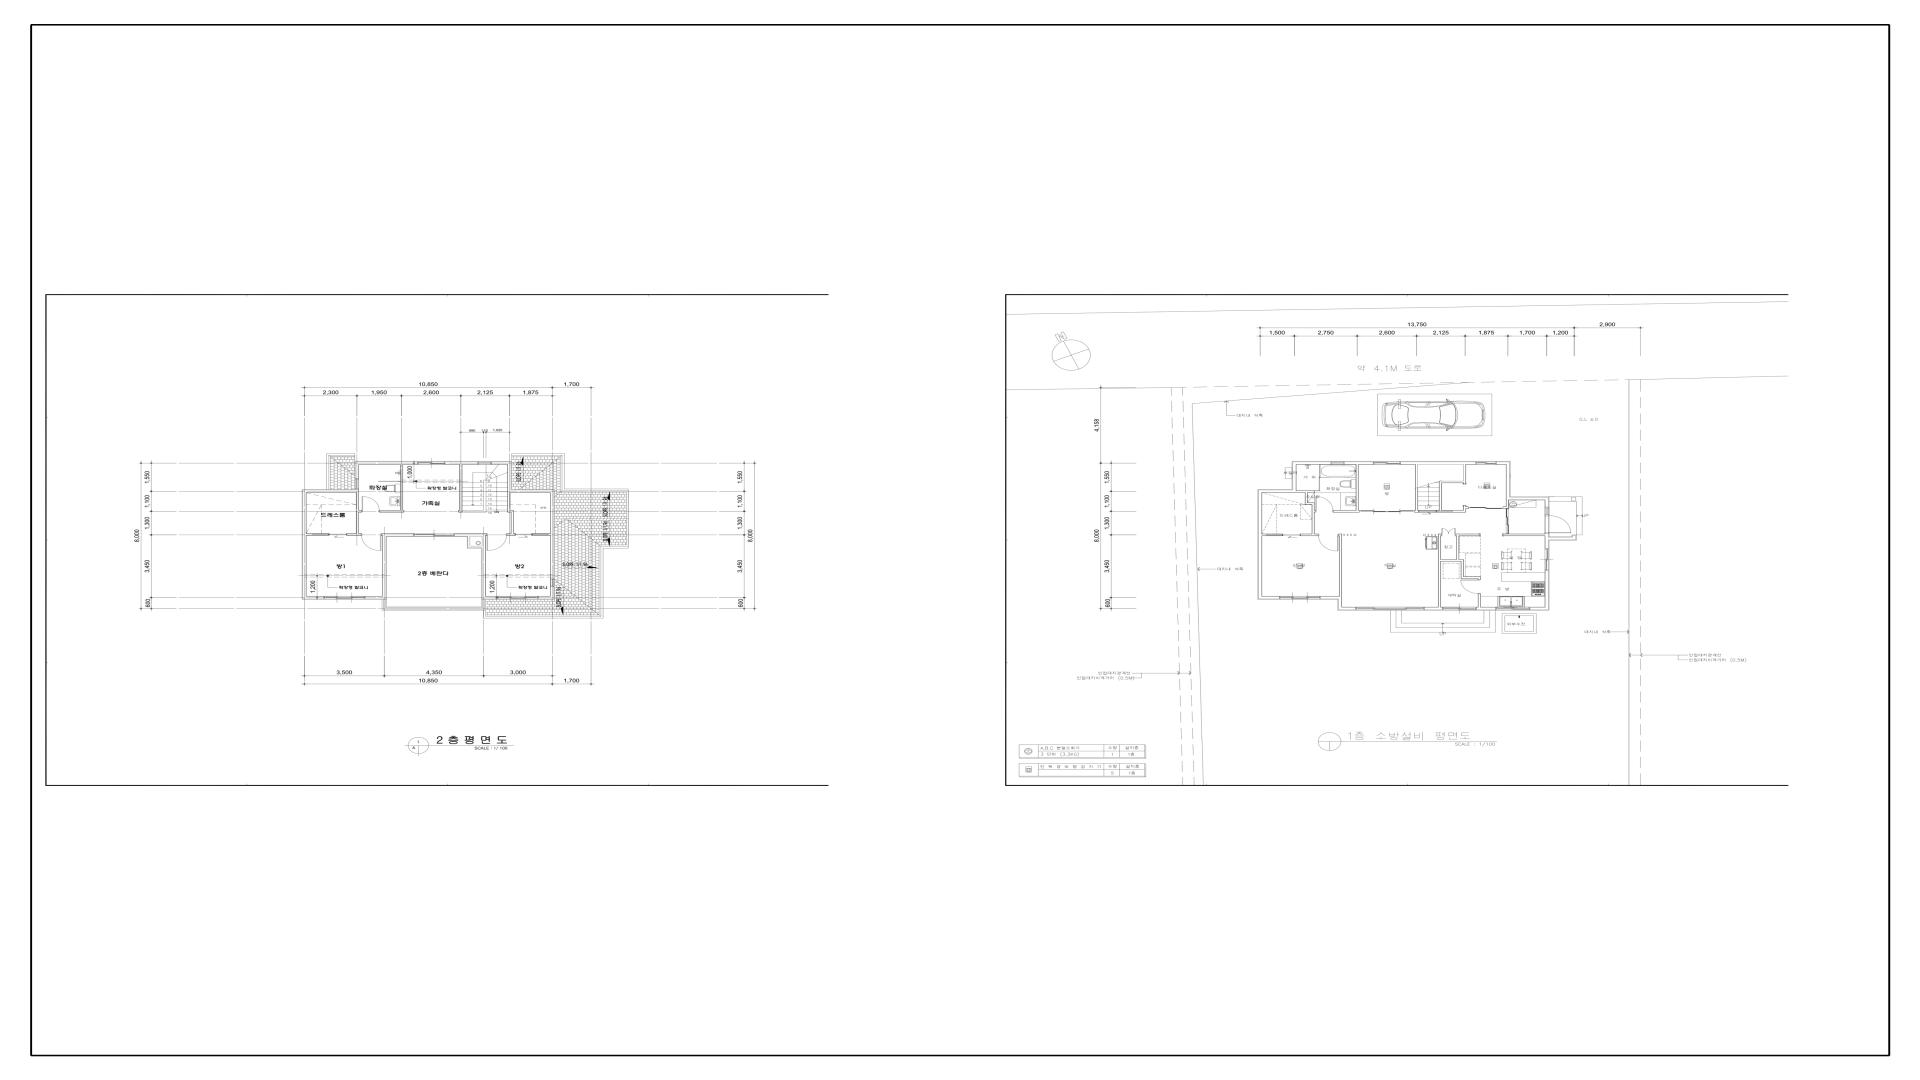door: (1545, 514, 1572, 533), (487, 533, 508, 551), (361, 533, 381, 551), (1319, 534, 1338, 551), (1315, 496, 1333, 513), (361, 496, 380, 513), (1460, 579, 1481, 593), (414, 533, 455, 537), (1360, 510, 1414, 513), (1441, 529, 1456, 535), (1419, 510, 1453, 513), (1469, 506, 1503, 509), (1506, 509, 1509, 534), (1282, 534, 1300, 537), (328, 533, 347, 535), (516, 533, 531, 535), (1319, 464, 1320, 491)
wall: (365, 533, 414, 600), (455, 534, 497, 599), (302, 489, 359, 534), (1497, 462, 1548, 506), (1258, 491, 1279, 599), (1262, 462, 1331, 493), (302, 533, 324, 600), (1333, 464, 1360, 513), (380, 464, 405, 513), (355, 462, 418, 479), (1296, 491, 1319, 537), (1441, 559, 1481, 579), (1530, 570, 1548, 609), (1439, 481, 1464, 510), (347, 493, 361, 535), (1456, 534, 1480, 559), (492, 462, 512, 489), (1320, 596, 1356, 609), (550, 493, 555, 579), (508, 489, 516, 535), (458, 464, 463, 513), (1414, 464, 1419, 513), (1338, 534, 1342, 596), (1400, 462, 1476, 464), (1439, 534, 1441, 607), (538, 587, 554, 599), (512, 489, 555, 493), (468, 537, 483, 547), (1549, 535, 1577, 541), (1453, 505, 1469, 513), (444, 462, 477, 464), (1344, 462, 1374, 464), (1545, 533, 1549, 549), (306, 533, 328, 535), (1503, 534, 1545, 535), (531, 533, 551, 535), (1464, 464, 1466, 484), (1424, 607, 1443, 609), (1477, 607, 1495, 609), (1503, 500, 1509, 509), (1478, 593, 1481, 607), (1262, 534, 1283, 535), (1545, 506, 1548, 514), (1315, 491, 1320, 491)
window: (1356, 607, 1424, 609), (323, 596, 365, 600), (1279, 596, 1320, 599), (497, 596, 538, 599), (1495, 607, 1530, 609), (1443, 607, 1477, 609), (1545, 549, 1549, 571), (418, 462, 444, 464), (1374, 462, 1400, 464), (1476, 462, 1497, 464), (355, 479, 359, 489), (477, 462, 492, 464), (1331, 462, 1345, 464), (550, 579, 554, 587)
